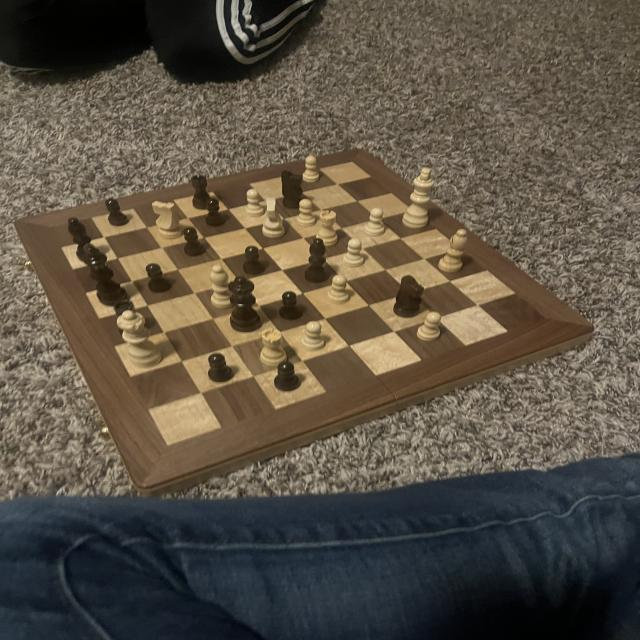bishop: (66, 216, 100, 262), (304, 237, 330, 284)
black-bishop: (84, 247, 130, 307)
black-king: (389, 274, 426, 320), (277, 167, 310, 212)
black-knight: (206, 353, 238, 384), (272, 361, 302, 394), (278, 290, 307, 323), (143, 262, 172, 294), (202, 196, 231, 228), (103, 196, 131, 228), (240, 244, 268, 276), (182, 226, 210, 258)
black-pawn: (224, 272, 264, 336)
black-queen: (110, 298, 143, 336), (189, 173, 213, 210)
black-rook: (434, 227, 474, 276), (206, 262, 235, 312)
white-bishop: (398, 165, 438, 231)
white-king: (150, 197, 185, 242), (255, 197, 284, 239)
white-knight: (416, 308, 447, 343), (298, 318, 328, 351), (363, 206, 393, 238), (324, 273, 353, 306), (339, 235, 368, 267), (241, 185, 267, 217), (301, 152, 324, 185), (295, 198, 319, 225)
white-pawn: (113, 308, 169, 372)
white-queen: (258, 325, 291, 369), (314, 208, 341, 247)
